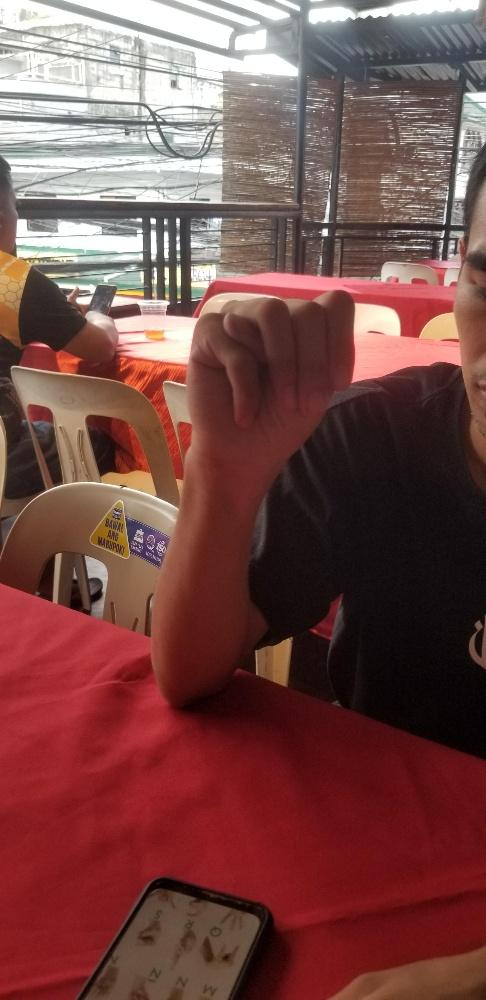m: (176, 283, 356, 463)
